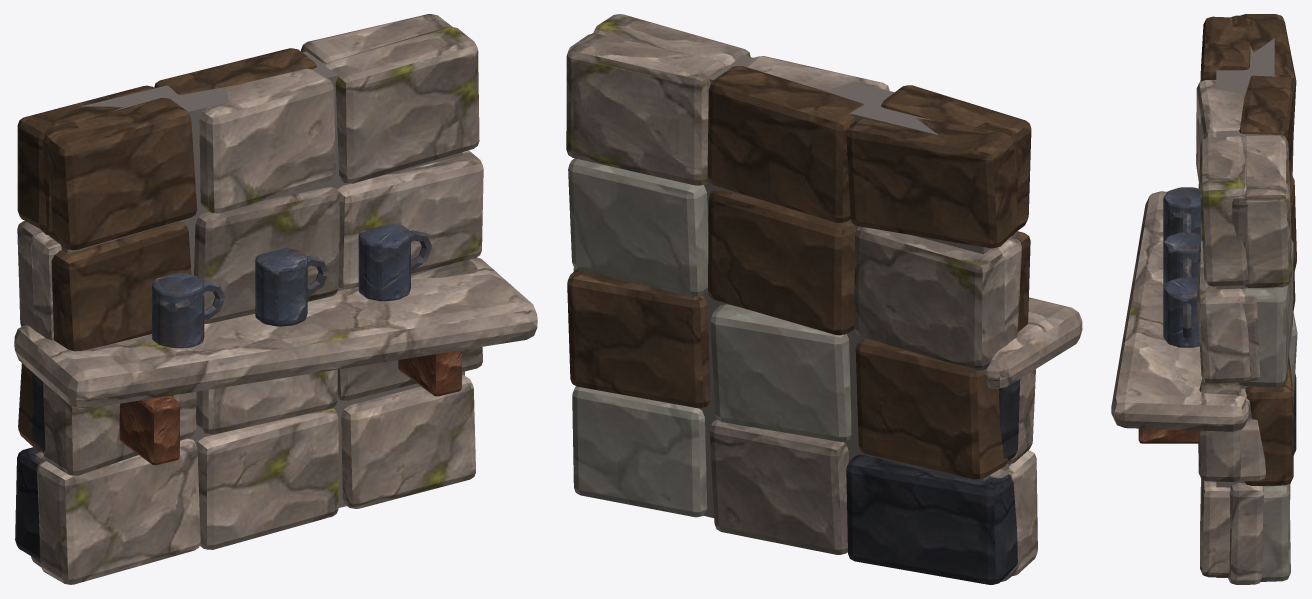
Rendered from stone_wall_shelf.glb.
3 views of the same model, side by side, from view 1: azimuth 30°, elevation 25°; view 2: azimuth 150°, elevation 25°; view 3: azimuth 270°, elevation 25° (orthographic). The views are drawn at different scales.
Parts seen in each view (by area): view 1: model; view 2: model; view 3: model.
Boxes of the visible parts, x1,y1,x2,y2 form: model: (14, 14, 537, 584); model: (566, 14, 1082, 584); model: (1111, 14, 1297, 584).
Size of the model in its own units: 0.9741 by 0.9118 by 0.3833.
Materials: 9 (8 with a texture image).
